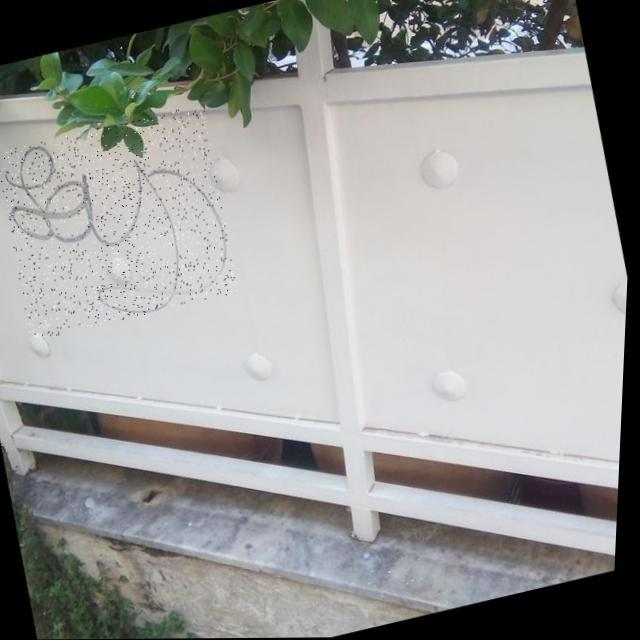-: (0, 104, 247, 341)
